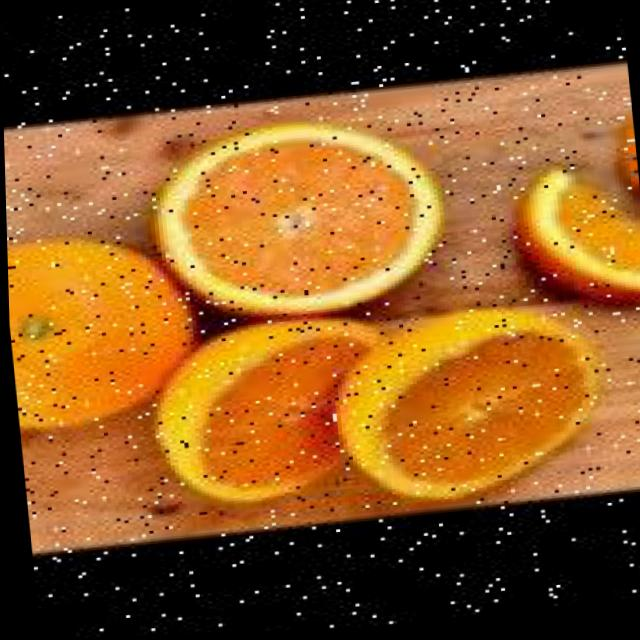orange: (5, 223, 206, 437)
